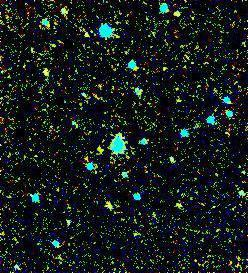star: (84, 134, 114, 164)
